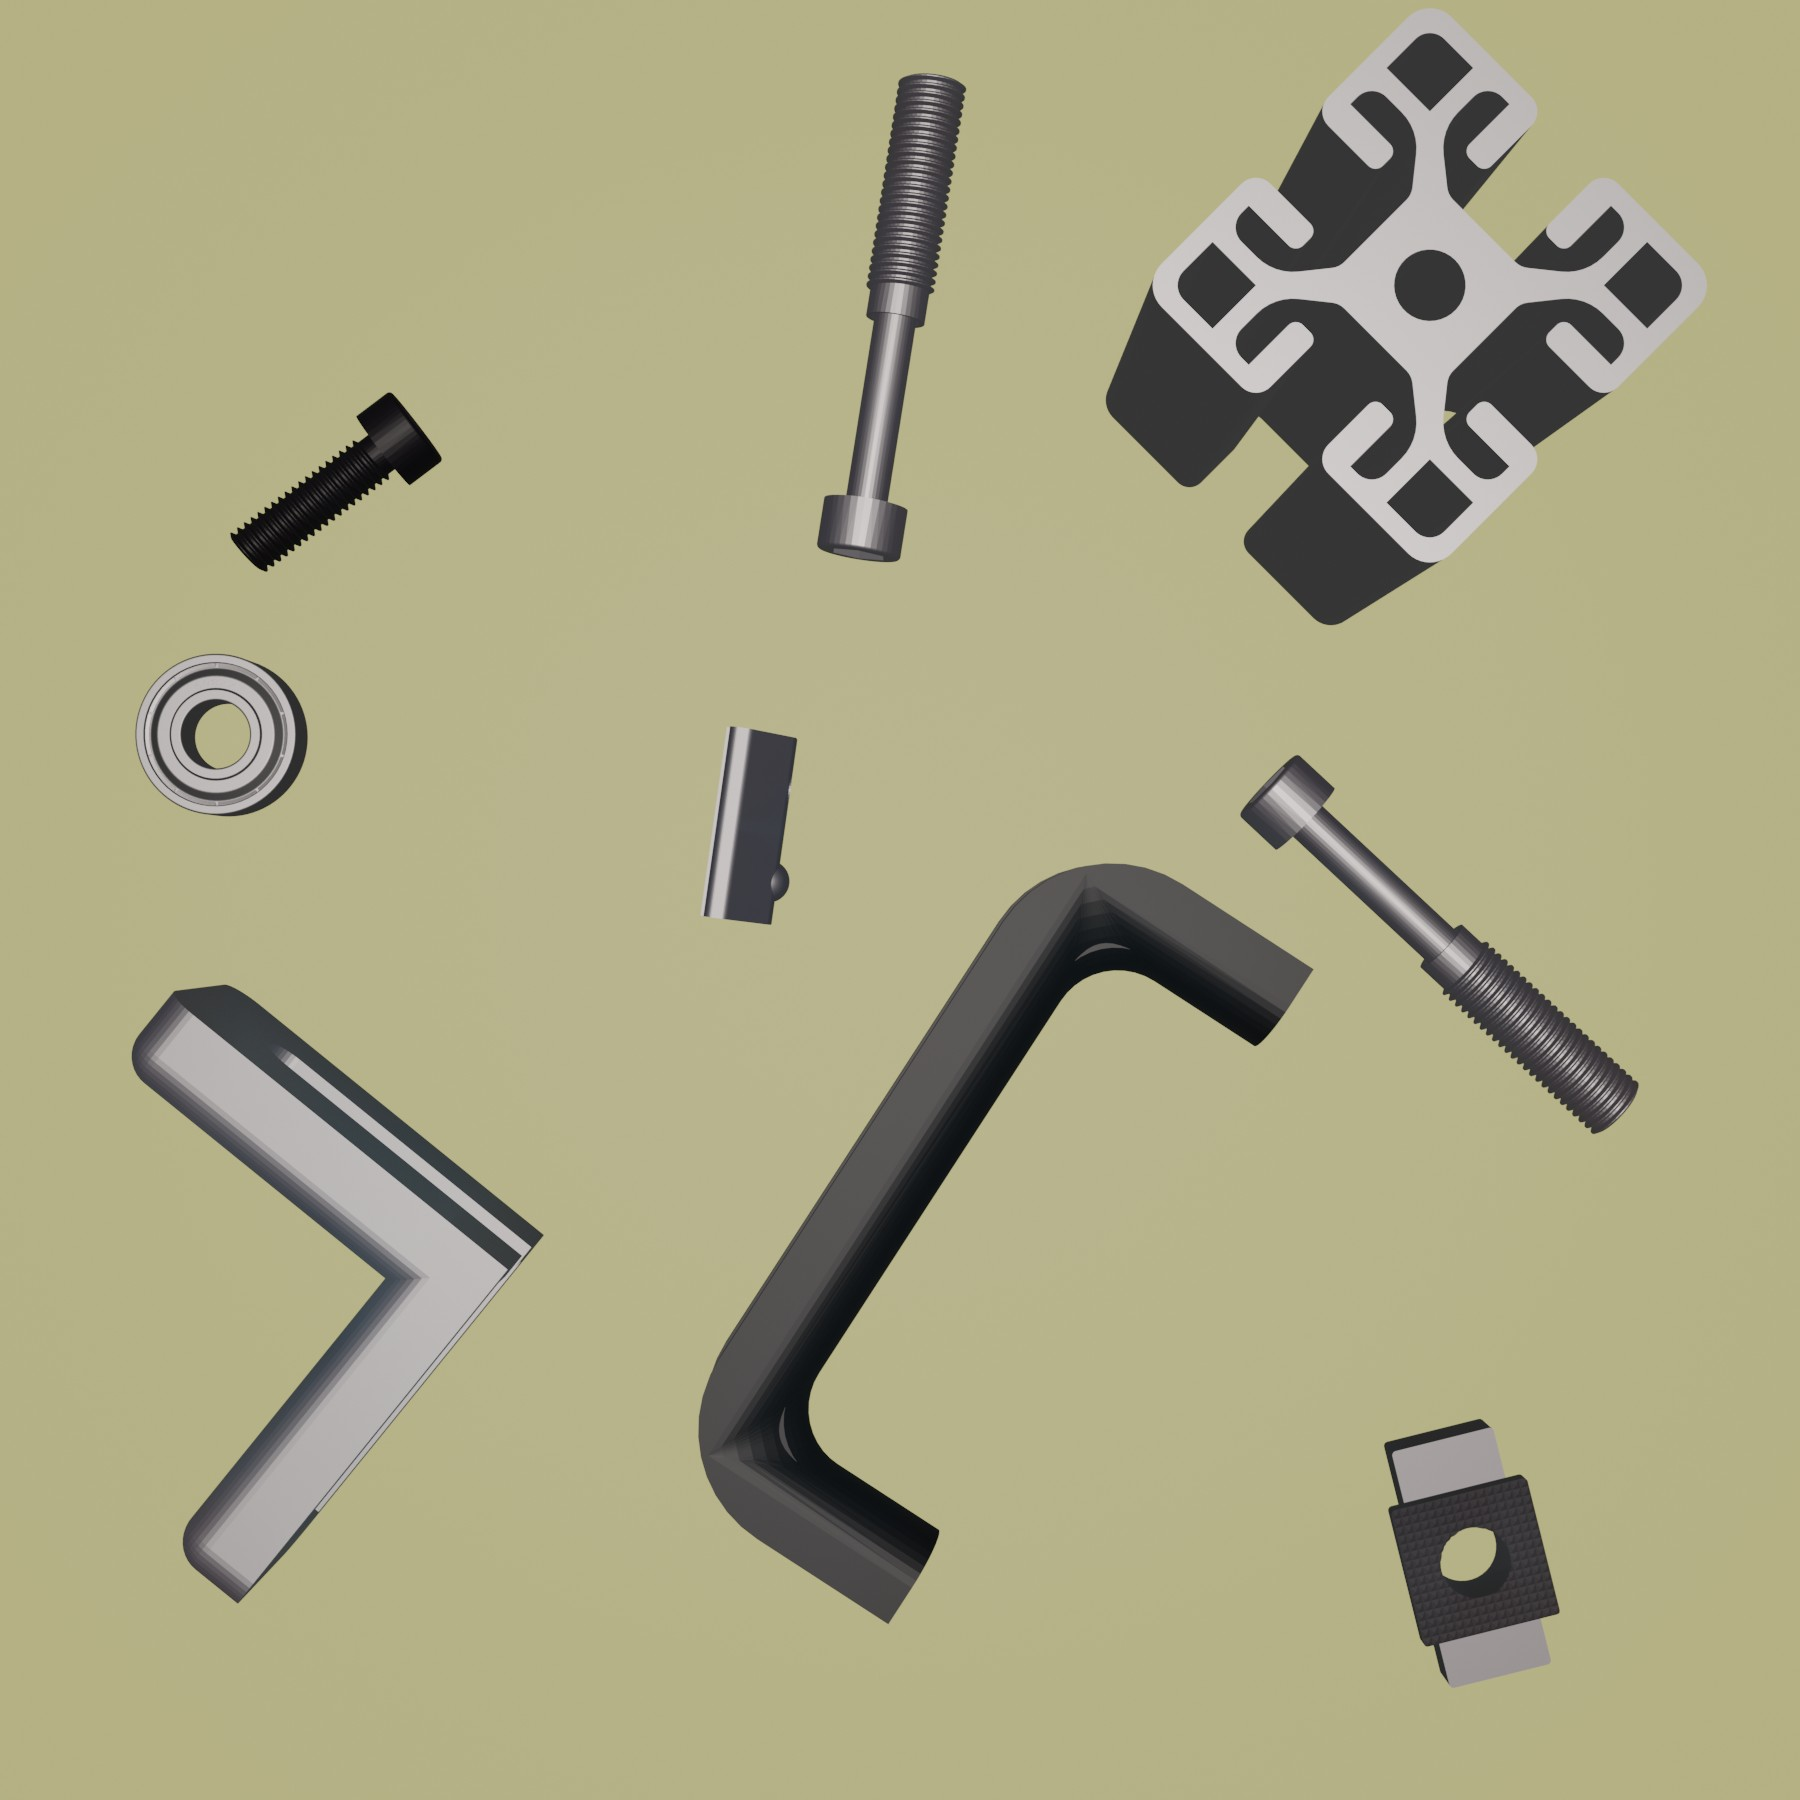Aluminium Extension: (1103, 12, 1709, 628)
Ball Bearing: (134, 649, 312, 823)
Multiwinkel: (130, 981, 546, 1605)
Pull Handle: (692, 859, 1315, 1627)
Shoulder Socket Head Cap Screw: (1233, 753, 1640, 1136), (813, 69, 969, 565)
Socket Head Cap Screw: (224, 386, 443, 577)
T Nut Square: (1376, 1414, 1563, 1691)
T Spring Nut: (701, 719, 803, 926)
